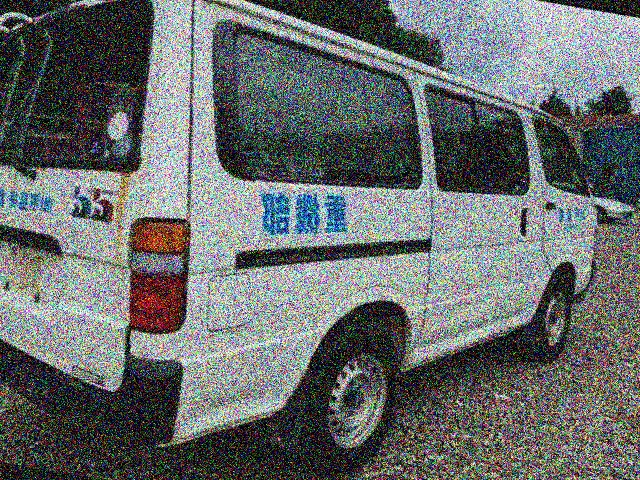van: (0, 0, 626, 480)
